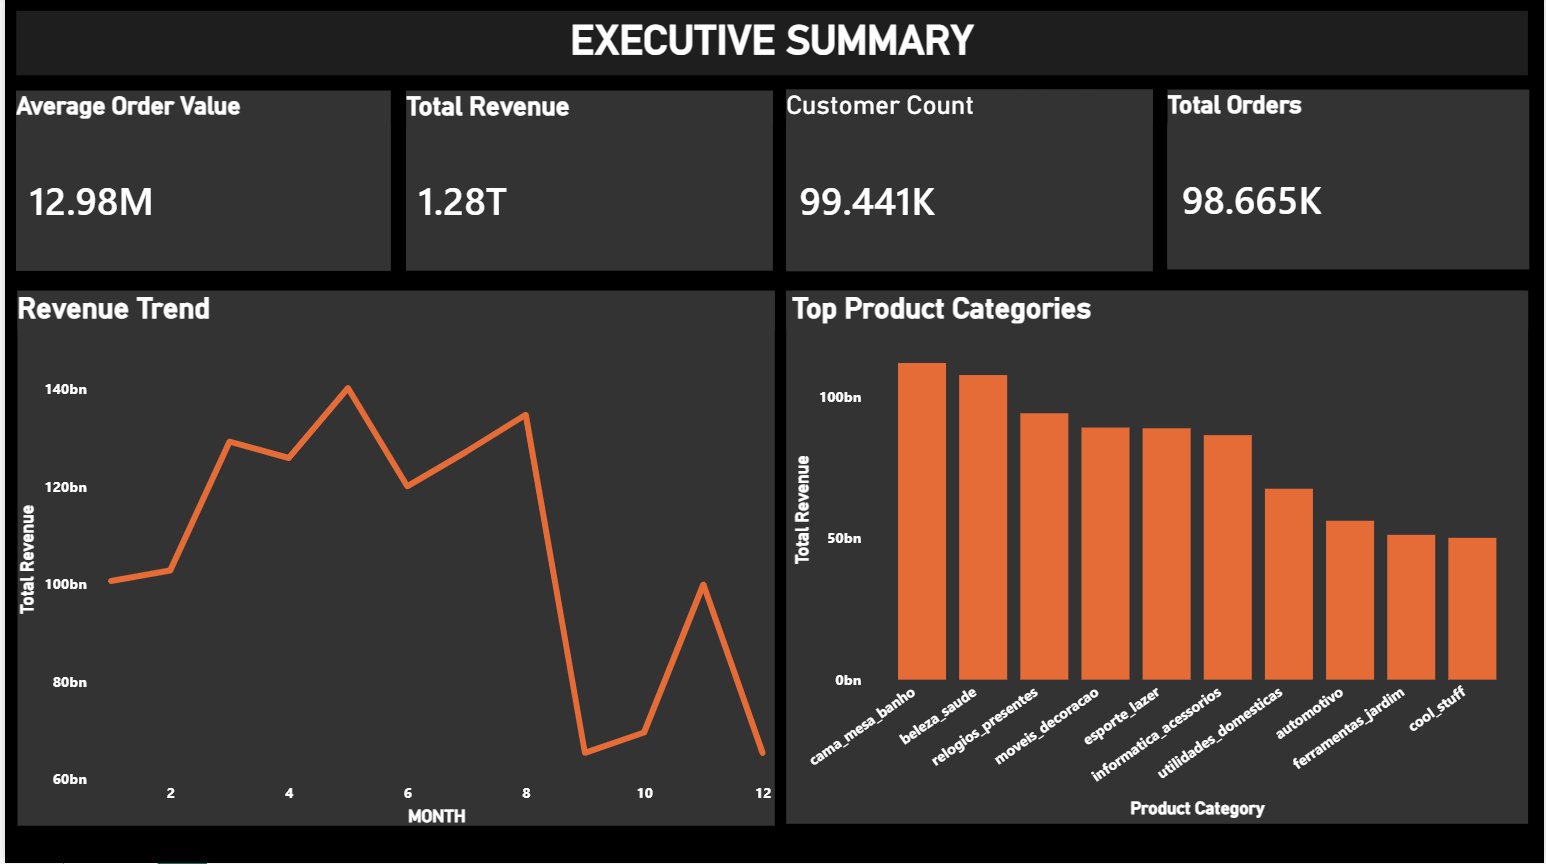

The dashboard page shown, as its layout file describes it:
{"tool":"powerbi","page":{"name":"Executive Summary","canvas":[1280,720],"ordinal":0},"visuals":[{"type":"textbox","box":[9.6,11,1257,53.5],"z":0},{"type":"cardVisual","title":"Average Order Value","fields":{"Data":["FACT_ORDERS.Average Order Value"]},"box":[9.6,78.2,311.5,149.6],"z":1000},{"type":"cardVisual","title":"Customer Count","fields":{"Data":["FACT_ORDERS.Customer Count"]},"box":[649.1,76.8,304.6,150.9],"z":2000},{"type":"cardVisual","title":"Total Orders","fields":{"Data":["FACT_ORDERS.Total Orders"]},"box":[966,76.8,300.5,149.6],"z":3000},{"type":"cardVisual","title":"Total Revenue","fields":{"Data":["FACT_ORDERS.Total Revenue"]},"box":[333.4,78.2,304.6,149.6],"z":4000},{"type":"lineChart","title":"Revenue Trend","fields":{"Category":["DIM_DATE.MONTH"],"Y":["FACT_ORDERS.Total Revenue"]},"box":[9.9,244.4,629.5,444.8],"z":5000},{"type":"columnChart","title":"Top Product Categories","fields":{"Category":["DIM_PRODUCTS.PRODUCT_CATEGORY_NAME"],"Y":["FACT_ORDERS.Total Revenue"]},"box":[649.4,244.4,616.7,443.3],"z":6000}]}

Visuals, with their boxes in screenshot pixels (x1, y1, x2, y2), scaled from the page's 1280x720 canvas onto the 1546x864 screenshot:
textbox: x1=12 y1=13 x2=1530 y2=77
"Average Order Value" cardVisual: x1=12 y1=94 x2=388 y2=273
"Customer Count" cardVisual: x1=784 y1=92 x2=1152 y2=273
"Total Orders" cardVisual: x1=1167 y1=92 x2=1530 y2=272
"Total Revenue" cardVisual: x1=403 y1=94 x2=771 y2=273
"Revenue Trend" lineChart: x1=12 y1=293 x2=772 y2=827
"Top Product Categories" columnChart: x1=784 y1=293 x2=1529 y2=825
